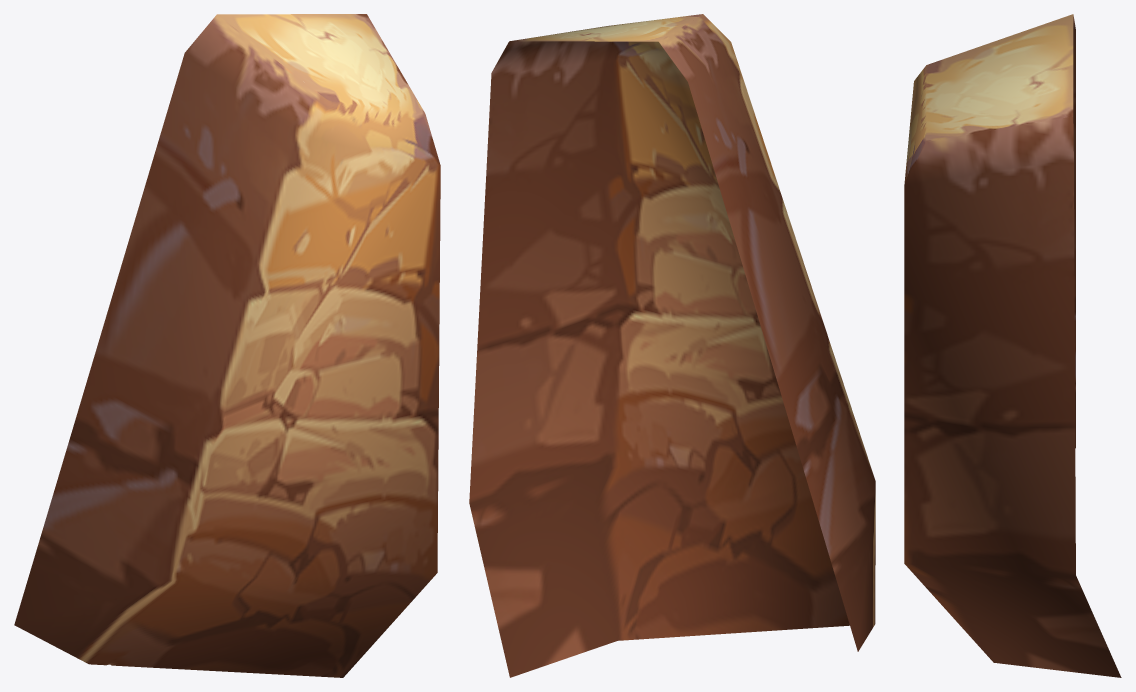
File: Chapter1Scene1Model27.FBX
3 views of the same model, side by side, from view 1: azimuth 30°, elevation 25°; view 2: azimuth 150°, elevation 25°; view 3: azimuth 270°, elevation 25° (orthographic). The views are drawn at different scales.
Visible parts, largest first — view 1: Chapter1Scene1Model27; view 2: Chapter1Scene1Model27; view 3: Chapter1Scene1Model27.
Part boxes in pixels (x1,y1,x2,y2): Chapter1Scene1Model27: (14, 14, 440, 677); Chapter1Scene1Model27: (469, 14, 875, 677); Chapter1Scene1Model27: (904, 14, 1121, 677).
Size of the model in its own units: 83.01 by 42.81 by 133.
